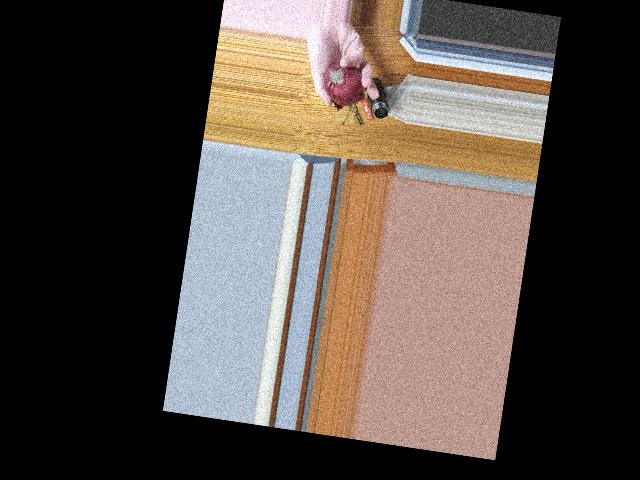onion: (320, 60, 367, 103)
